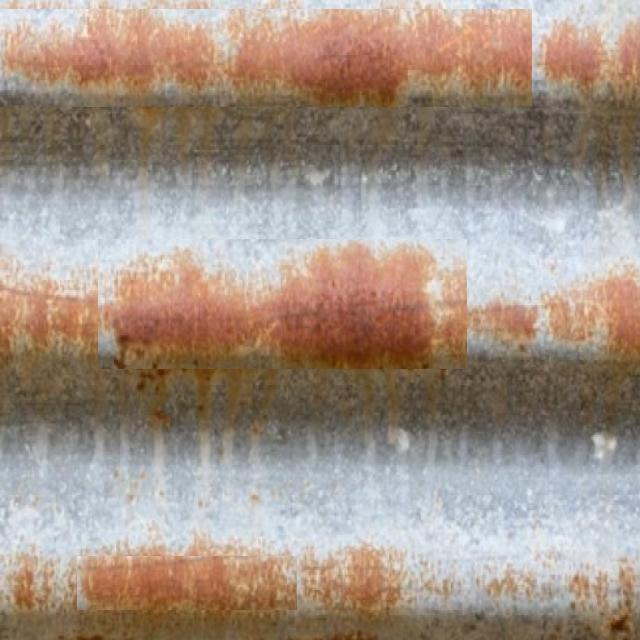Corrosion: (0, 8, 640, 106), (105, 242, 468, 368), (76, 545, 410, 616), (470, 275, 640, 360), (0, 290, 98, 354)
